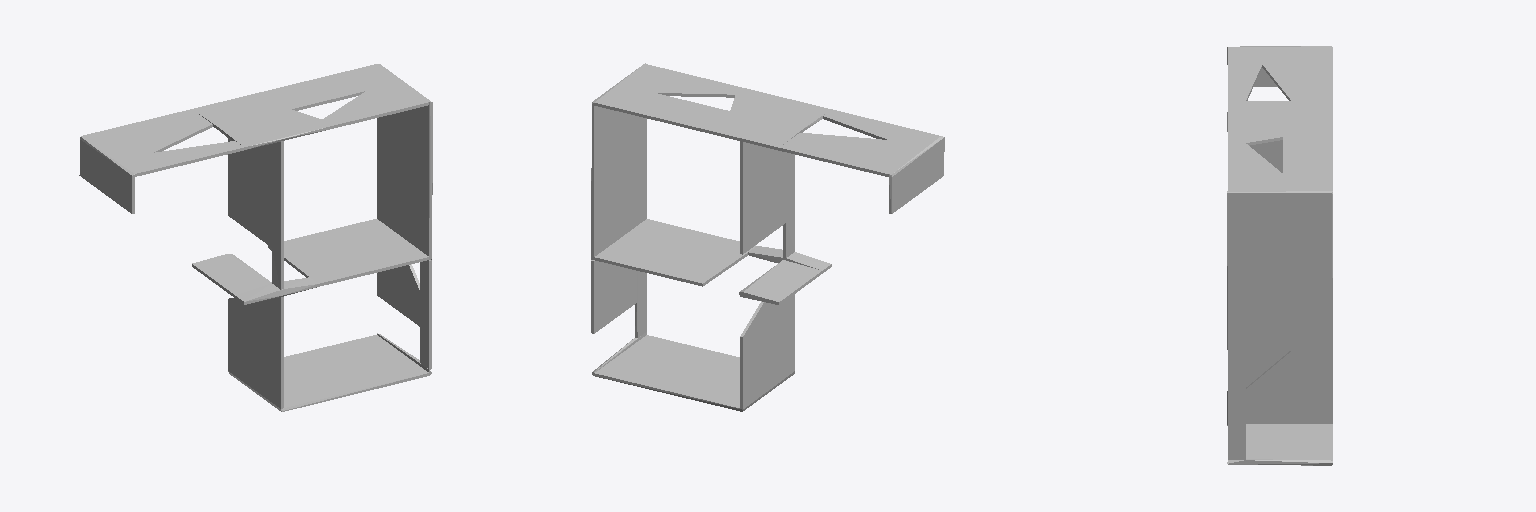
File: appartment_vhacd.obj
The picture shows the model from 3 angles: view 1: azimuth 30°, elevation 25°; view 2: azimuth 150°, elevation 25°; view 3: azimuth 270°, elevation 25°; orthographic projection.
Visible parts, largest first — view 1: convex_3, convex_11, convex_15, convex_4, convex_10, convex_16, convex_1, convex_12, convex_8, convex_0, convex_2, convex_6 (+3 smaller); view 2: convex_3, convex_11, convex_15, convex_16, convex_10, convex_4, convex_1, convex_13, convex_0, convex_8, convex_12, convex_6 (+3 smaller); view 3: convex_3, convex_13, convex_16, convex_1, convex_11, convex_12, convex_8, convex_14, convex_2, convex_4, convex_5, convex_10.
Boxes of the visible parts, <box> form: convex_3: <box>377,64,432,259</box>; convex_11: <box>228,335,428,411</box>; convex_15: <box>268,219,428,286</box>; convex_4: <box>228,297,283,408</box>; convex_10: <box>228,138,283,253</box>; convex_16: <box>193,64,400,129</box>; convex_1: <box>83,109,212,160</box>; convex_12: <box>218,109,330,149</box>; convex_8: <box>322,82,428,128</box>; convex_0: <box>79,136,134,213</box>; convex_2: <box>118,141,243,176</box>; convex_6: <box>192,254,271,297</box>; convex_3: <box>591,63,646,259</box>; convex_11: <box>594,335,794,411</box>; convex_15: <box>594,219,755,286</box>; convex_16: <box>594,84,802,150</box>; convex_10: <box>740,141,794,254</box>; convex_4: <box>740,294,794,408</box>; convex_1: <box>779,133,922,176</box>; convex_13: <box>591,260,636,333</box>; convex_0: <box>889,136,944,213</box>; convex_8: <box>620,64,743,97</box>; convex_12: <box>730,88,830,131</box>; convex_6: <box>739,260,822,304</box>; convex_3: <box>1227,191,1332,350</box>; convex_13: <box>1246,351,1332,423</box>; convex_16: <box>1283,101,1332,190</box>; convex_1: <box>1262,47,1332,100</box>; convex_11: <box>1227,391,1332,460</box>; convex_12: <box>1227,101,1282,145</box>; convex_8: <box>1228,143,1282,190</box>; convex_14: <box>1228,351,1245,459</box>; convex_2: <box>1228,47,1261,100</box>; convex_4: <box>1246,351,1288,386</box>; convex_5: <box>1227,459,1332,465</box>; convex_10: <box>1250,140,1282,172</box>.
Bounding box in the file's own units: 8.28 × 7.21 × 2.52.